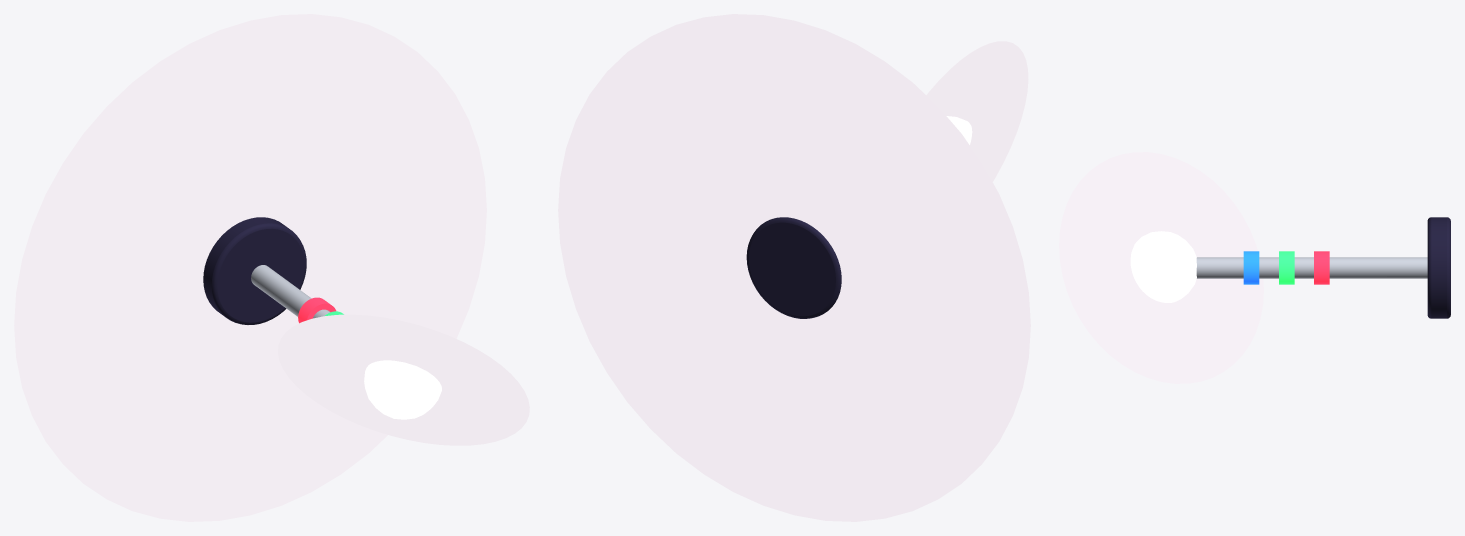
The model's file is borne.glb.
The picture shows the model from 3 angles, left to right: view 1: azimuth 30°, elevation 25°; view 2: azimuth 150°, elevation 25°; view 3: azimuth 270°, elevation 25°; orthographic projection. The views are drawn at different scales.
Visible parts, largest first — view 1: lueur, aureole, pied, globe, fut; view 2: lueur, aureole, pied; view 3: aureole, fut, globe, pied, bague2, bague0, bague1.
Boxes of the visible parts, x1,y1,x2,y2 form: lueur: [14, 14, 486, 521]; aureole: [278, 314, 529, 445]; pied: [203, 217, 306, 324]; globe: [364, 360, 441, 419]; fut: [251, 265, 330, 318]; lueur: [558, 14, 1030, 521]; aureole: [926, 41, 1028, 181]; pied: [746, 217, 841, 318]; aureole: [1059, 152, 1263, 383]; fut: [1196, 257, 1427, 278]; globe: [1130, 231, 1196, 302]; pied: [1427, 217, 1450, 318]; bague2: [1243, 251, 1259, 284]; bague0: [1314, 251, 1329, 284]; bague1: [1279, 251, 1294, 284].
Size of the model in its own units: 2.6 by 2.6 by 2.
